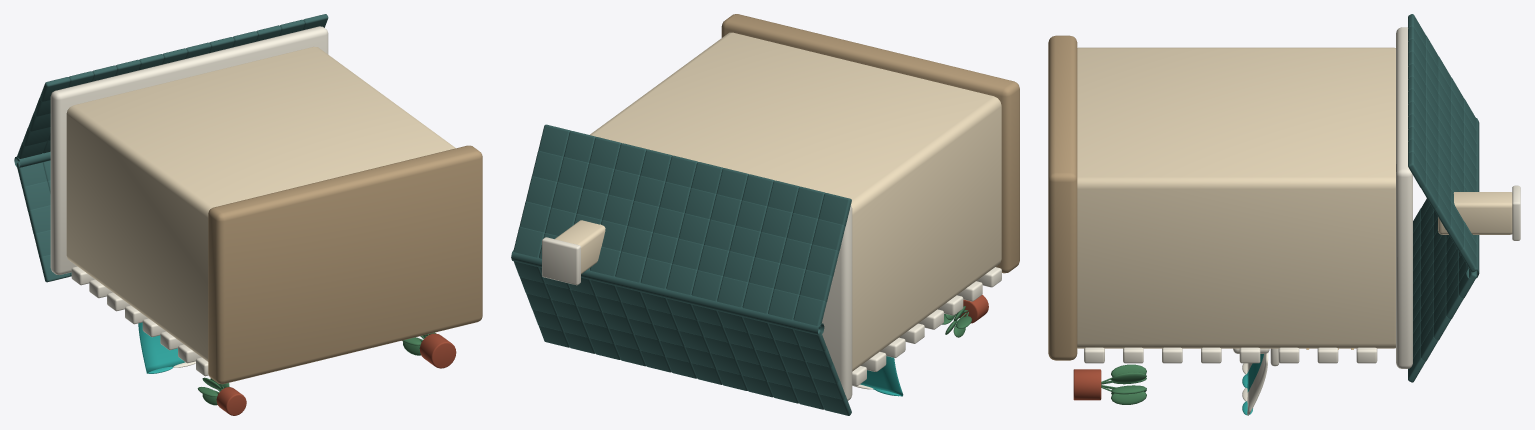
Rendered from BoulevardFacade0.fbx.
The picture shows the model from 3 angles, left to right: view 1: azimuth 30°, elevation 25°; view 2: azimuth 150°, elevation 25°; view 3: azimuth 270°, elevation 25°; orthographic projection. The views are drawn at different scales.
Parts seen in each view (by area): view 1: BoulevardFacade0; view 2: BoulevardFacade0; view 3: BoulevardFacade0.
Part boxes in pixels (x1,y1,x2,y2): BoulevardFacade0: (14, 14, 482, 415); BoulevardFacade0: (511, 14, 1019, 415); BoulevardFacade0: (1048, 14, 1520, 415).
Bounding box in the file's own units: 2.94 × 2.42 × 3.89.
